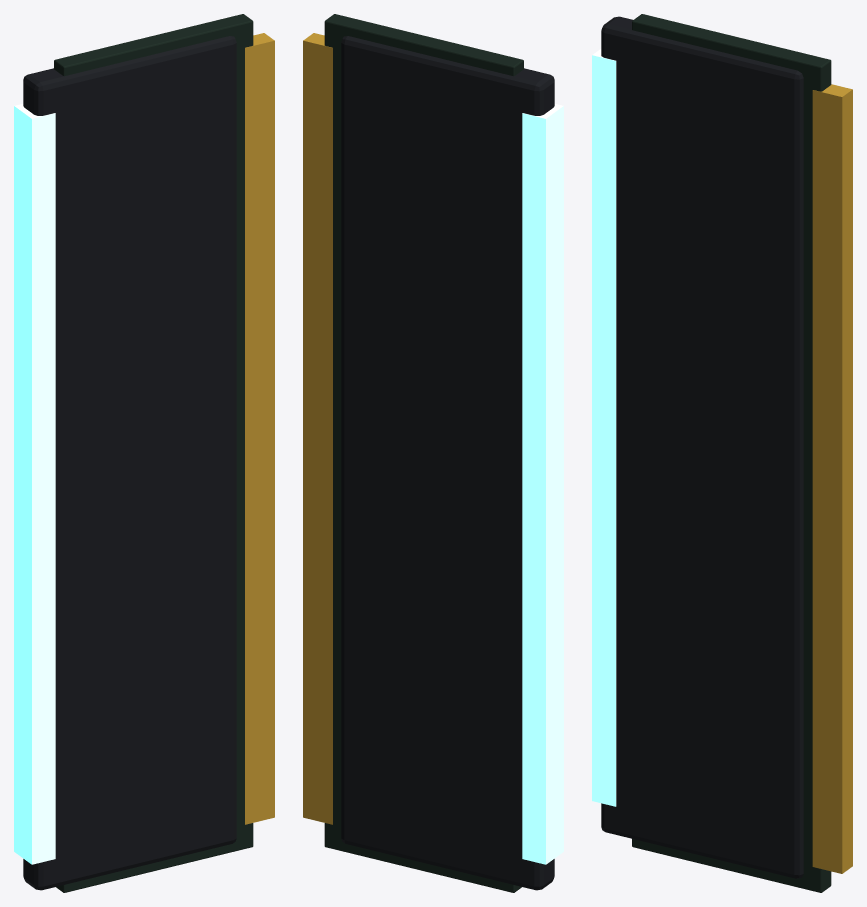
The model's file is ram0.glb.
3 renders of one model, left to right at view 1: azimuth 30°, elevation 25°; view 2: azimuth 150°, elevation 25°; view 3: azimuth 330°, elevation 25°, orthographic.
Visible parts, largest first — view 1: ram0; view 2: ram0; view 3: ram0.
Boxes of the visible parts, left/top/right/bottom form: ram0: left=14, top=14, right=274, bottom=892; ram0: left=303, top=14, right=563, bottom=892; ram0: left=592, top=14, right=852, bottom=892.
Size of the model in its own units: 0.415 by 1.33 by 0.052.
